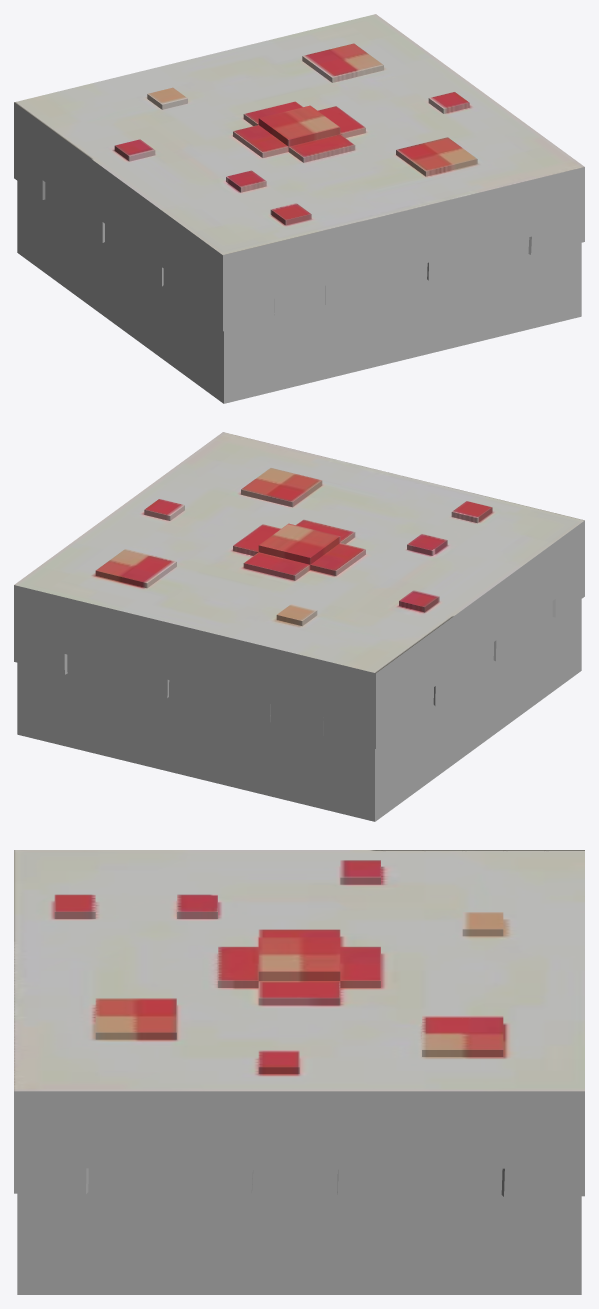
Rendered from cake.fbx.
3 views of the same model, one above another, from view 1: azimuth 30°, elevation 25°; view 2: azimuth 150°, elevation 25°; view 3: azimuth 270°, elevation 25° (orthographic). The views are drawn at different scales.
Visible parts, largest first — view 1: Cube; view 2: Cube; view 3: Cube.
Boxes of the visible parts, bbox=[...] form: Cube: bbox=[14, 14, 584, 403]; Cube: bbox=[14, 432, 584, 821]; Cube: bbox=[14, 850, 584, 1294].
Size of the model in its own units: 192 by 82.26 by 192.
